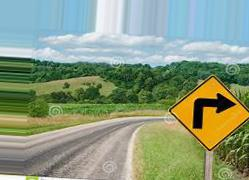right: (168, 75, 249, 152)
